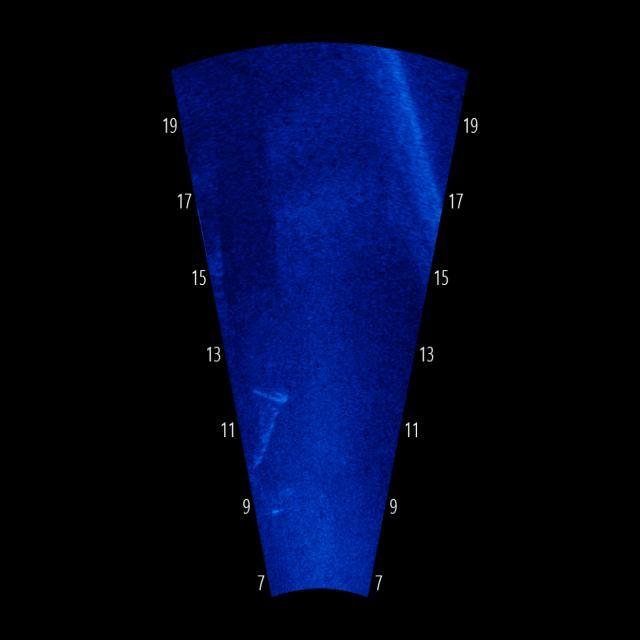triangle: (250, 376, 296, 471)
